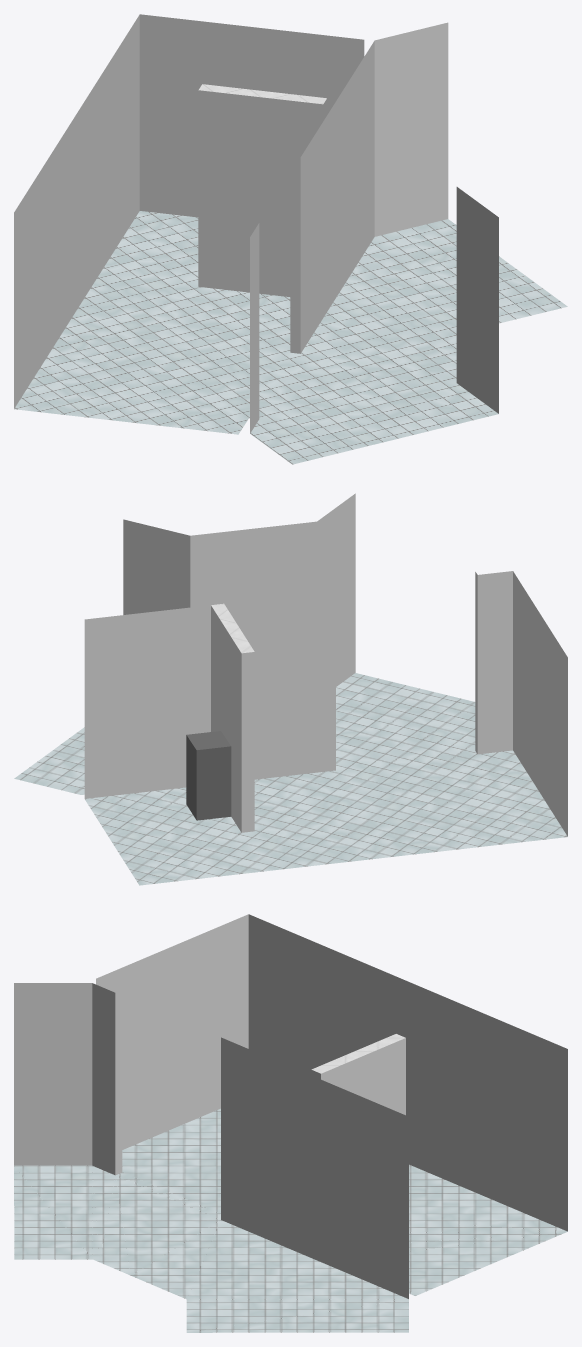
File: rz_cont2c_178.glb
The picture shows the model from 3 angles, top to bottom: view 1: azimuth 30°, elevation 25°; view 2: azimuth 150°, elevation 25°; view 3: azimuth 270°, elevation 25°; orthographic projection. The views are drawn at different scales.
Parts seen in each view (by area): view 1: Cube; view 2: Cube; view 3: Cube.
Part boxes in pixels (x1=…): Cube: x1=14, y1=14, x2=567, y2=464; Cube: x1=14, y1=493, x2=567, y2=885; Cube: x1=14, y1=914, x2=567, y2=1332.
Size of the model in its own units: 20.12 by 7.26 by 19.96.
4 materials, 2 textured.
